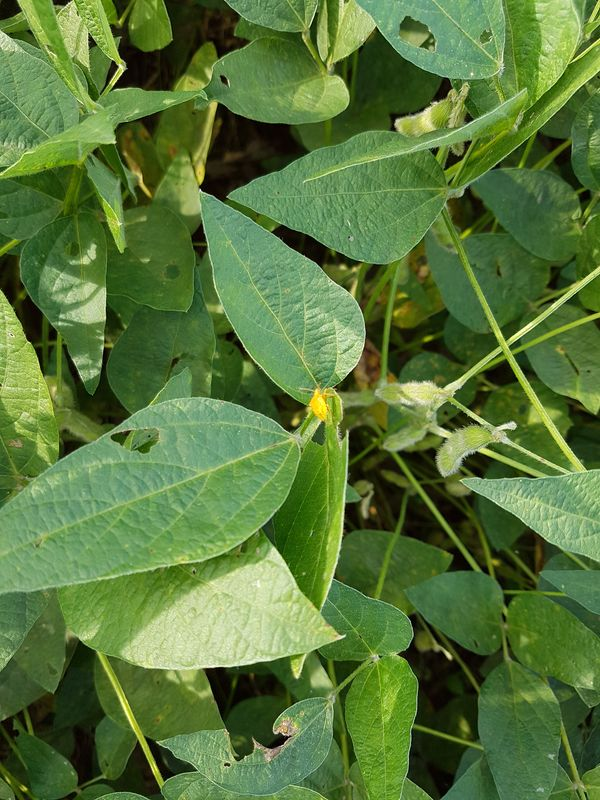Euschistus_heros_ninfa: (295, 381, 342, 430)
